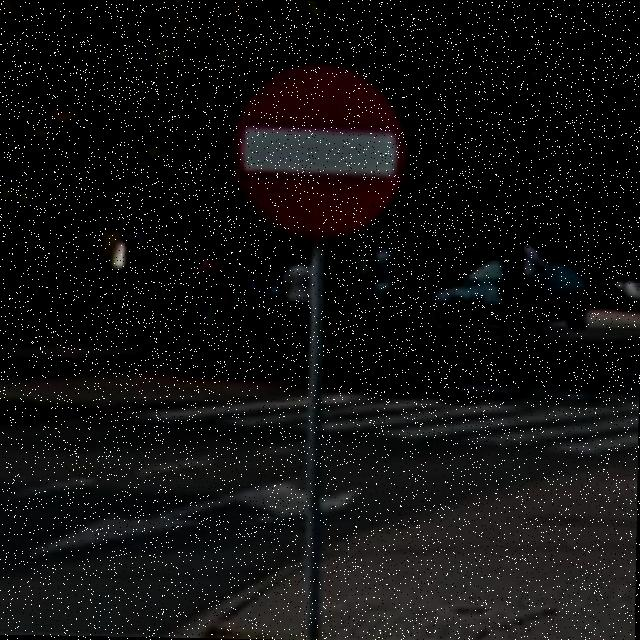Zakaz wjazdu: (229, 62, 411, 246)
